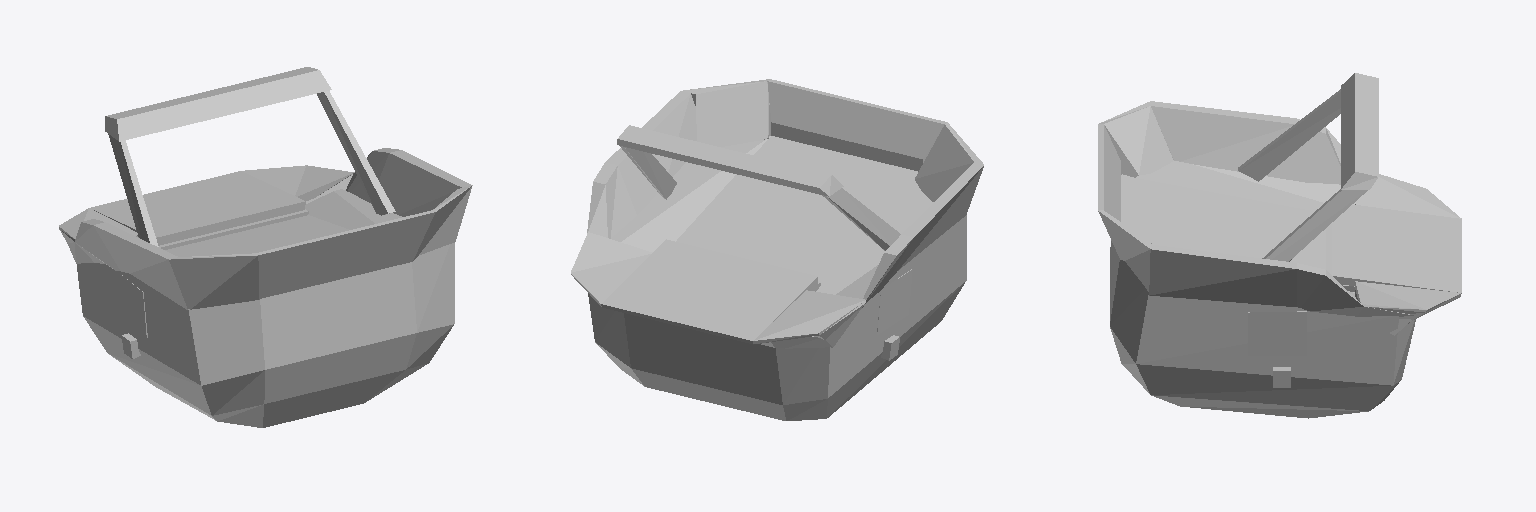
The model's file is helmet.Stahlhelm_M-35.obj.
The picture shows the model from 3 angles: view 1: azimuth 30°, elevation 25°; view 2: azimuth 150°, elevation 25°; view 3: azimuth 270°, elevation 25°; orthographic projection.
Visible parts, largest first — view 1: headModel; view 2: headModel; view 3: headModel.
Boxes of the visible parts, box(x1,y1,x2,y2) form: headModel: box(59, 67, 472, 427); headModel: box(571, 79, 983, 420); headModel: box(1098, 73, 1461, 418).
Size of the model in its own units: 12.2 by 10.1 by 12.45.